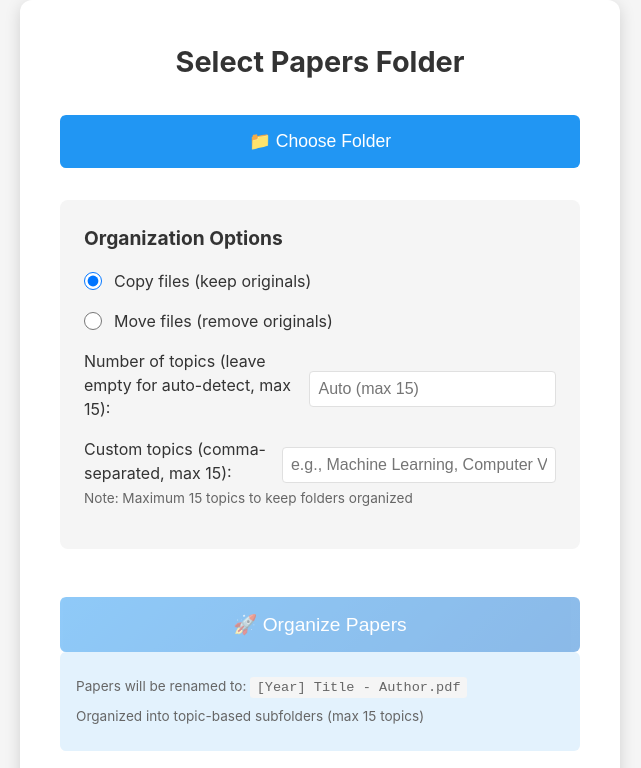
Test: FolderSelector › allows switching between copy and move modes
Check: the radio button labelled "Copy files (keep originals)" is checked, box left=84, top=272, right=102, bottom=290
Note: Switch to move mode
Click the radio button labelled "Move files (remove originals)".
click(93, 321)  # box left=84, top=312, right=102, bottom=330
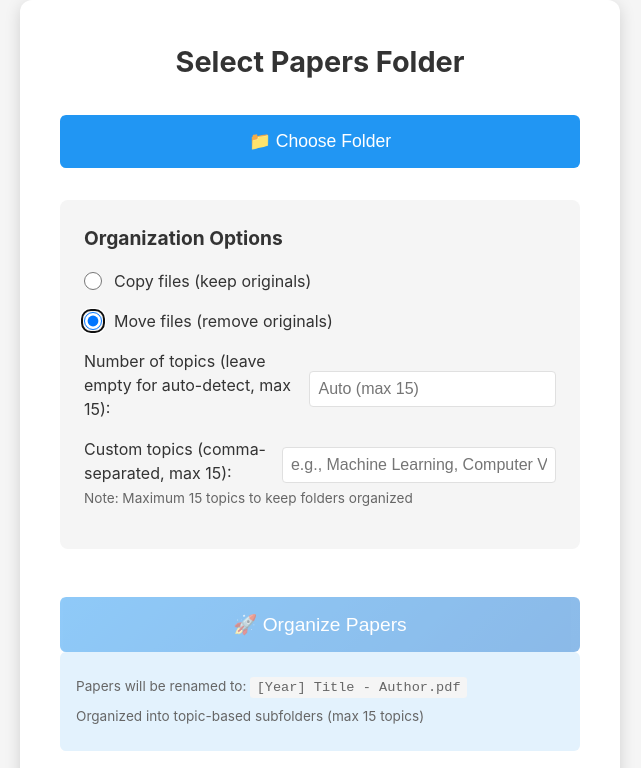
Check: the radio button labelled "Move files (remove originals)" is checked, box left=84, top=312, right=102, bottom=330
Check: the radio button labelled "Copy files (keep originals)" is not checked, box left=84, top=272, right=102, bottom=290
